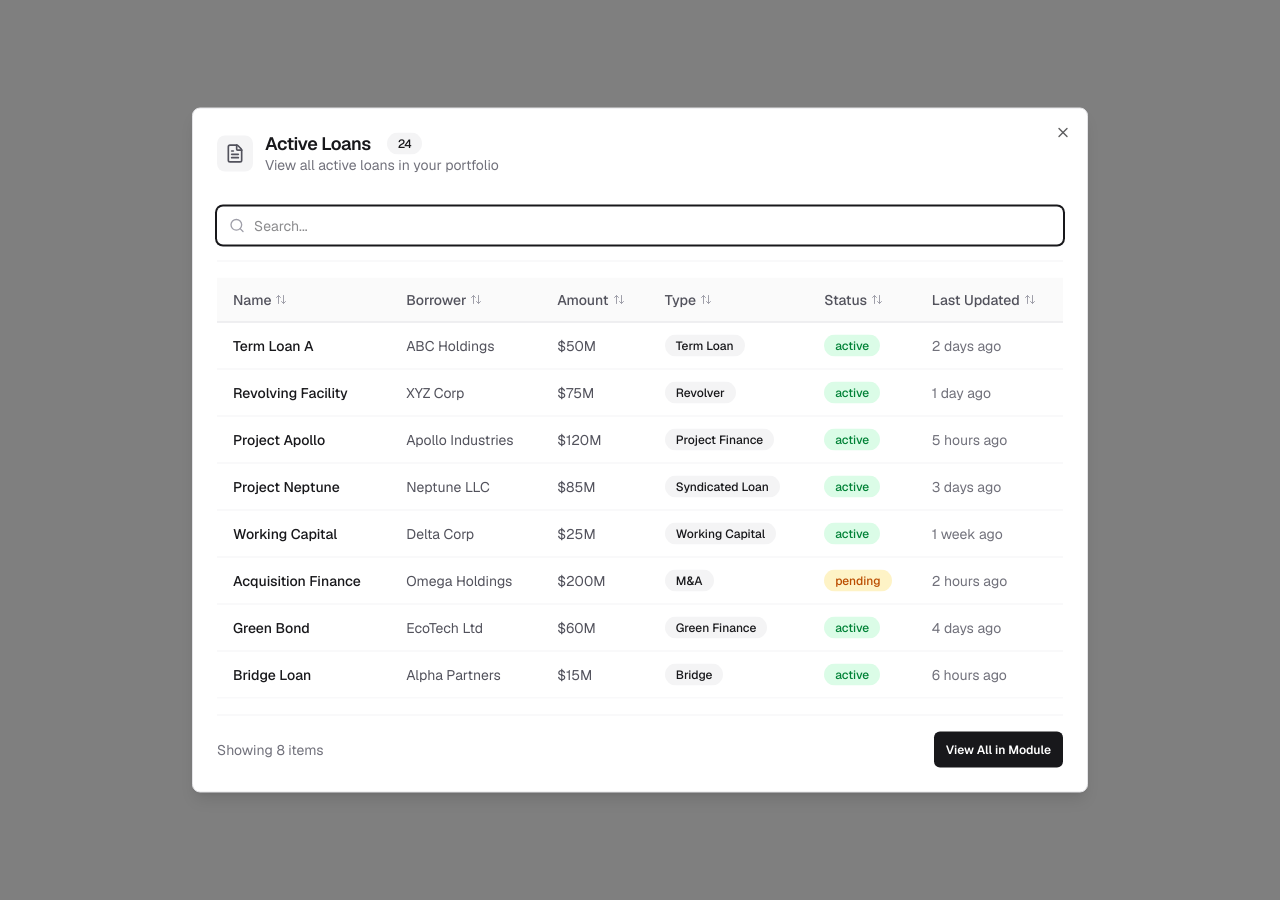
StatDrilldownModal › Search functionality › shows no results message when search has no matches
This screenshot has width=1280, height=900.
Type "NonExistentLoan12345" into the field with test id "drilldown-search-input".
click(640, 226); type("NonExistentLoan12345")  # box [217,206,1063,244]
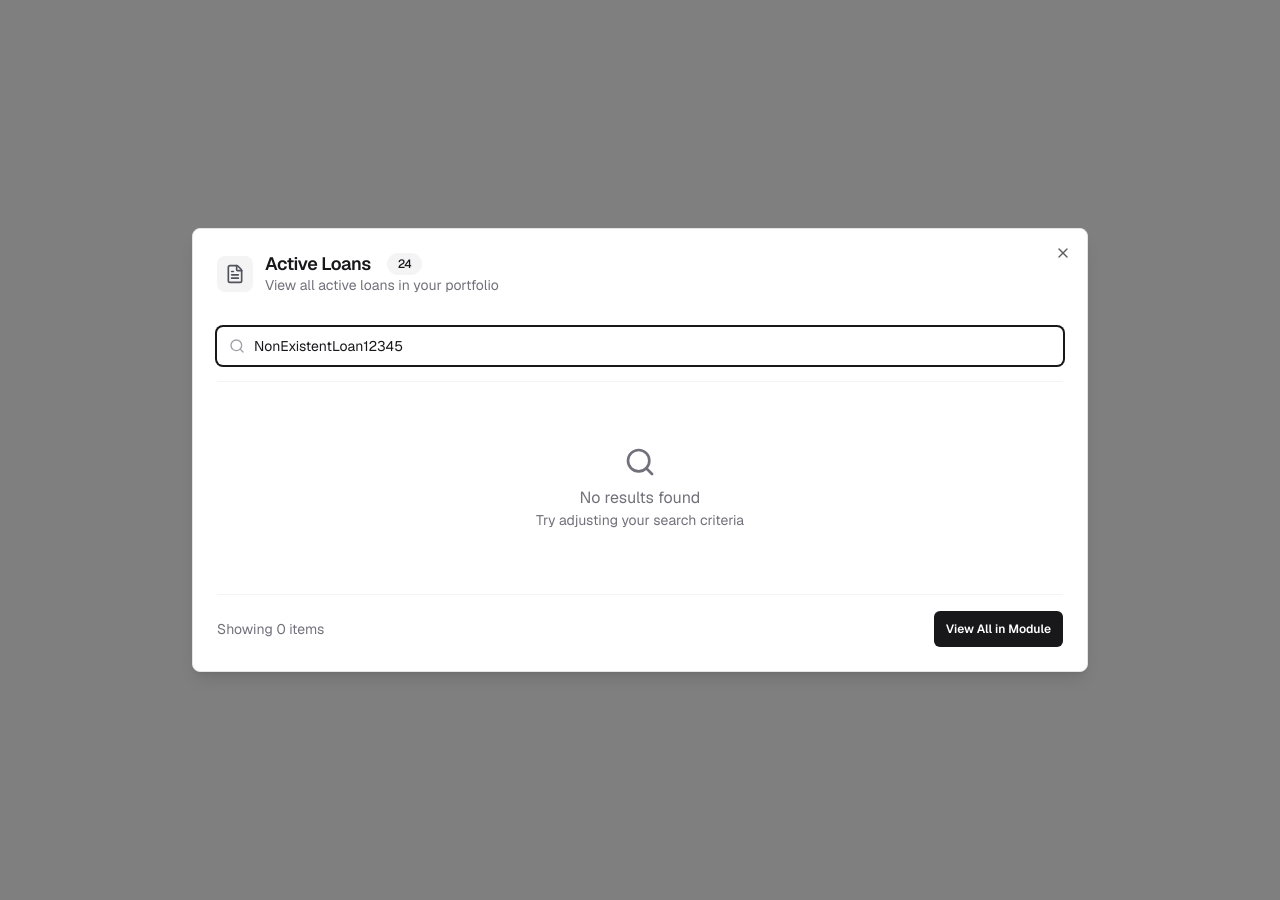
Result: the text "No results found" is shown at [580,486,700,510]
Result: the text "Try adjusting your search criteria" is shown at [536,510,744,530]
